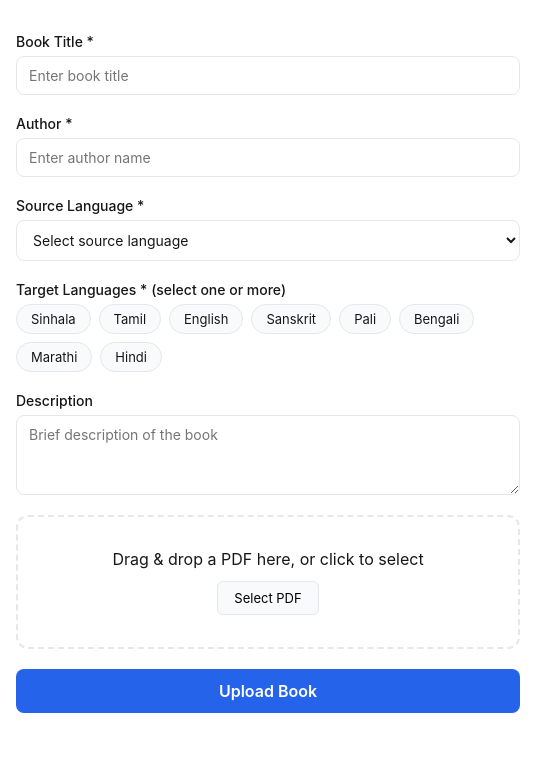
Test: UploadBookPage › shows error when submitting empty form
This screenshot has width=537, height=761.
(page scrolled)
Click the button "Upload Book" at x=268, y=691, box [16,669,520,713]
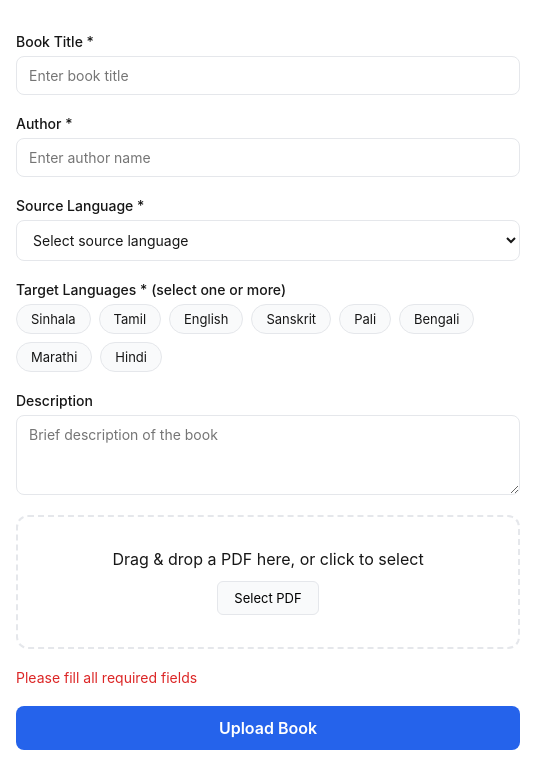
Check: the text "Please fill all required fields" is shown, box [16,669,197,686]
